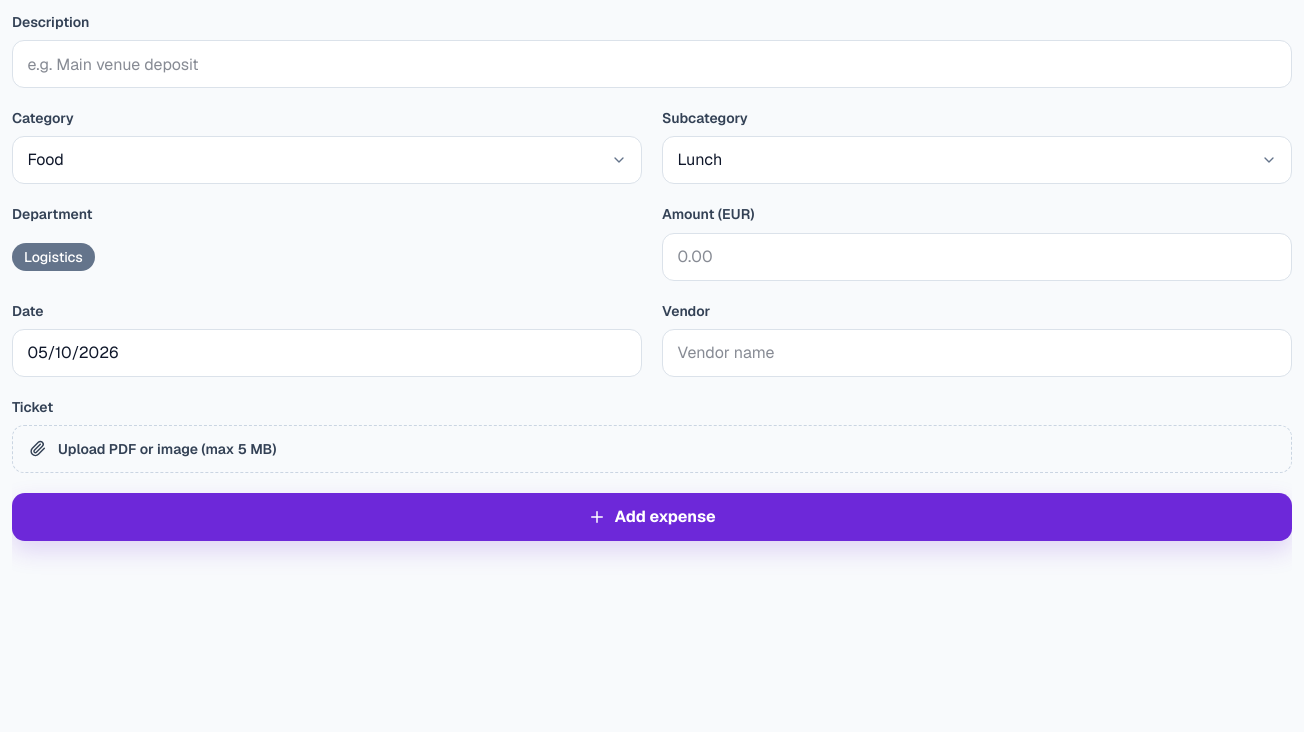
Scenario: ExpenseForm › shows a success message returned from the action
Type "Venue deposit" into the field labelled "Description" at (652, 64), box [12,40,1292,88]
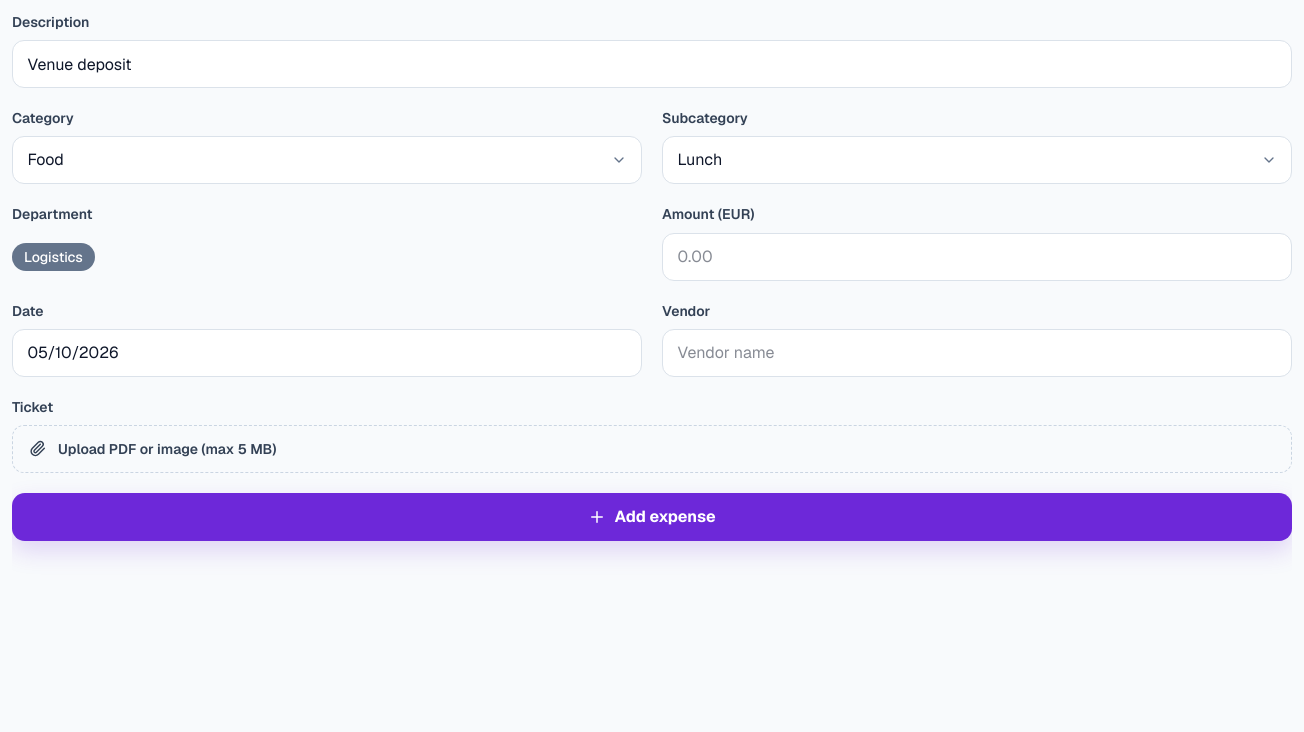
Type "500" into the number field labelled "Amount (EUR)" at (977, 257), box [662,233,1292,281]
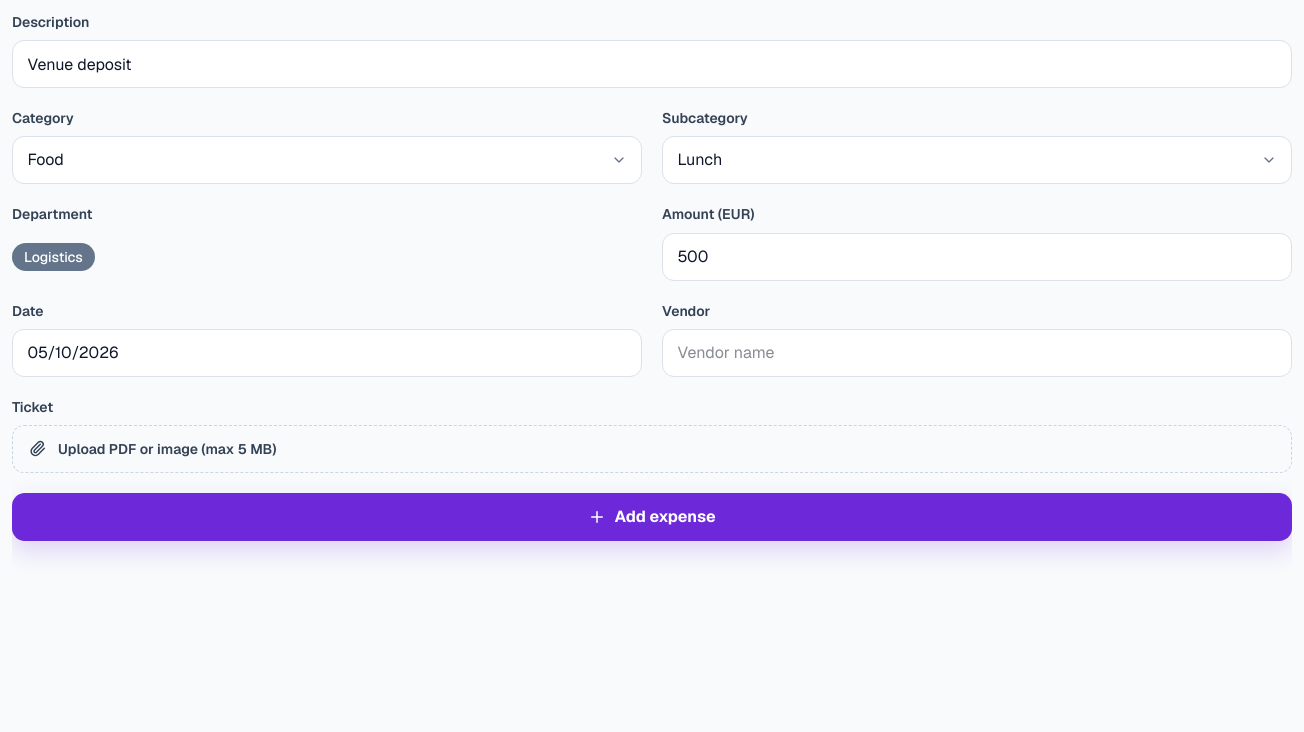
Type "Acme Venues" into the field labelled "Vendor" at (977, 353), box [662,329,1292,377]
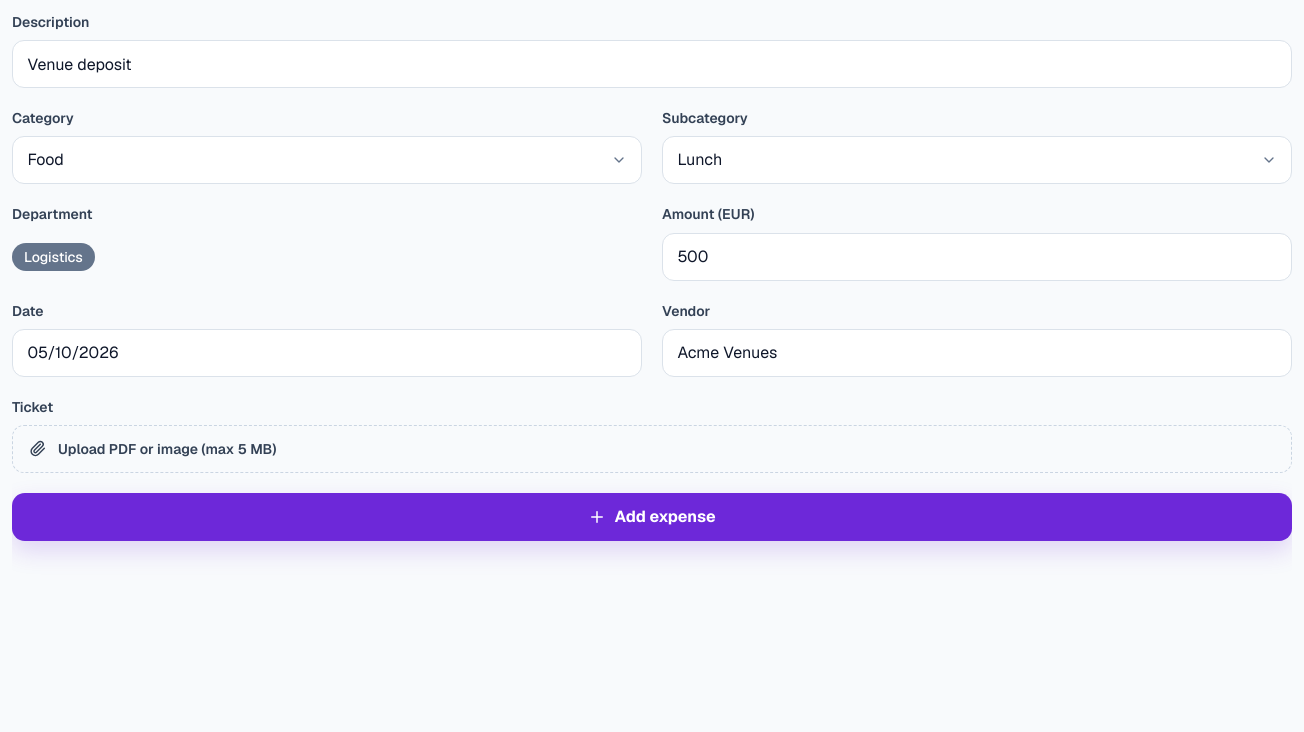
Click the button "Add expense" at (652, 517), box [12,493,1292,541]
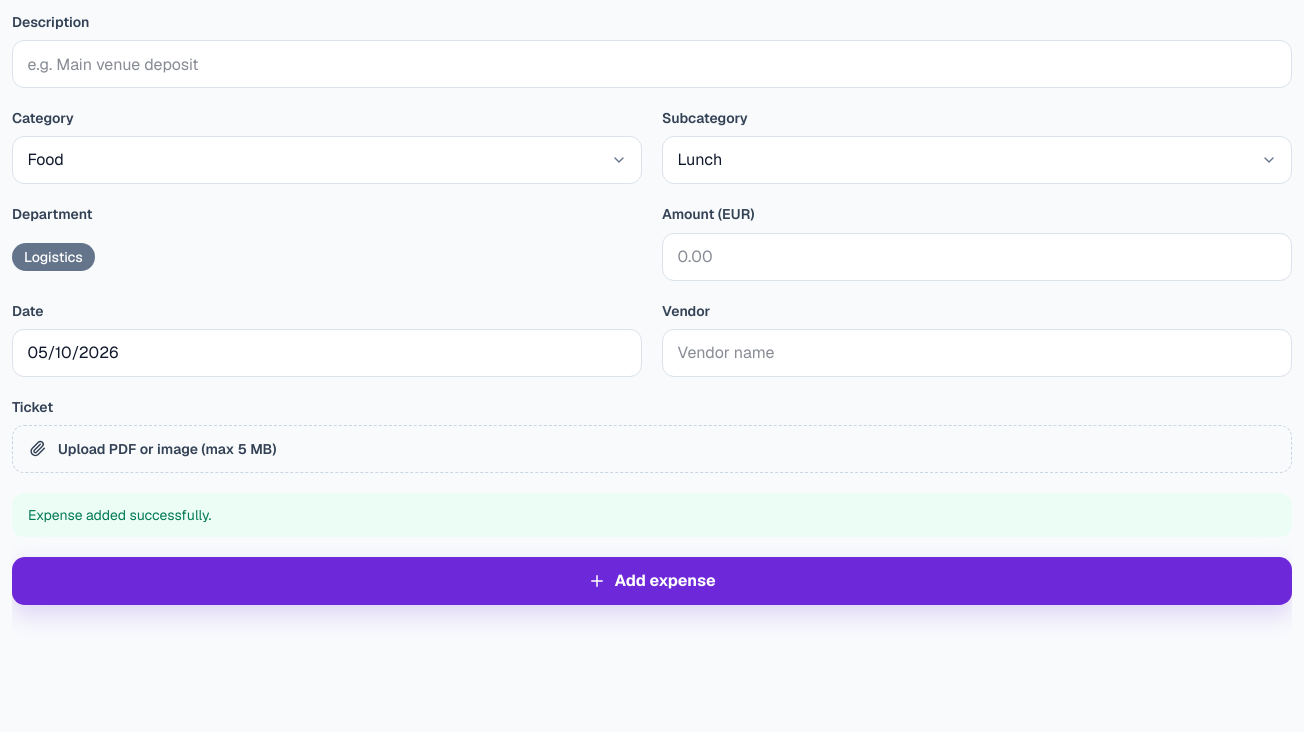
Now the message reads "Expense added successfully.", box [28,506,211,524]
